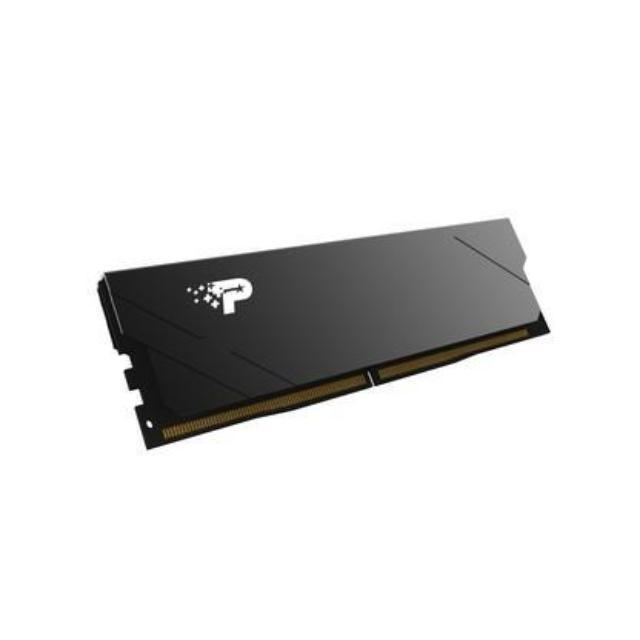RAM: (91, 208, 548, 448)
